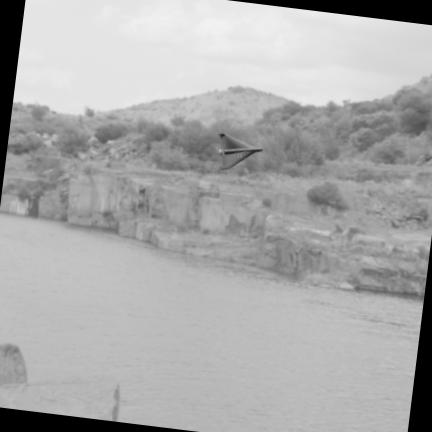Shahed: (217, 133, 262, 169)
